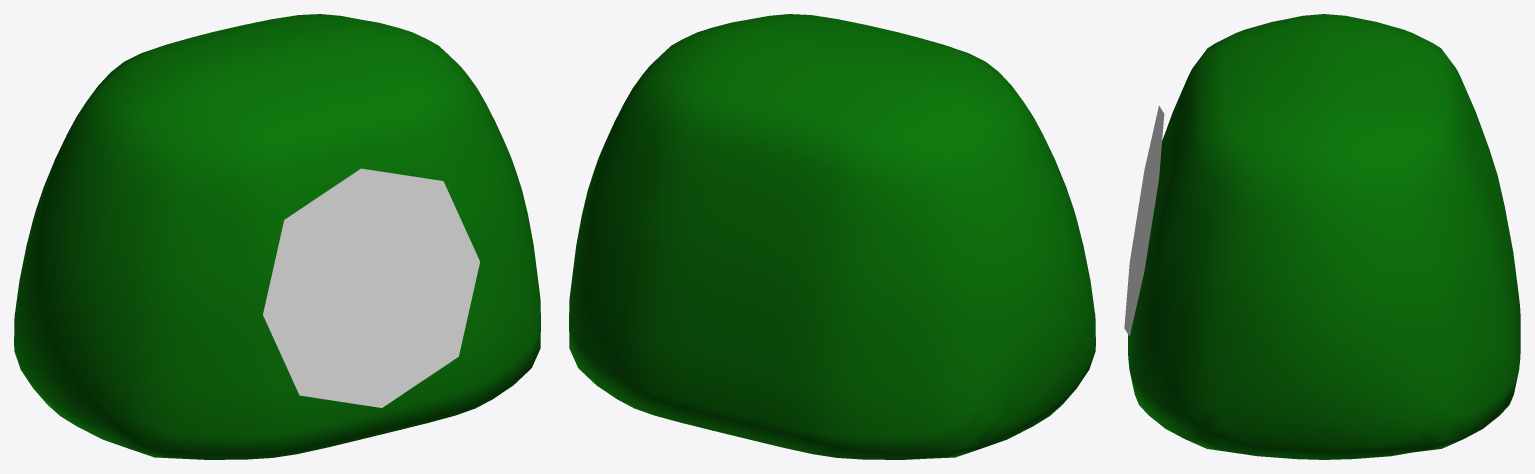
Rendered from green.fbx.
3 renders of one model, left to right at view 1: azimuth 30°, elevation 25°; view 2: azimuth 150°, elevation 25°; view 3: azimuth 270°, elevation 25°, orthographic. The views are drawn at different scales.
Parts seen in each view (by area): view 1: Cube; view 2: Cube; view 3: Cube.
Part boxes in pixels (left/top/right/bottom): Cube: left=14, top=14, right=540, bottom=459; Cube: left=569, top=14, right=1095, bottom=459; Cube: left=1124, top=14, right=1520, bottom=459.
Bounding box in the file's own units: 290 × 193 × 225.
